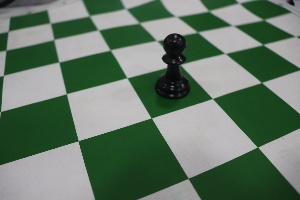black_pawn: (149, 22, 195, 102)
